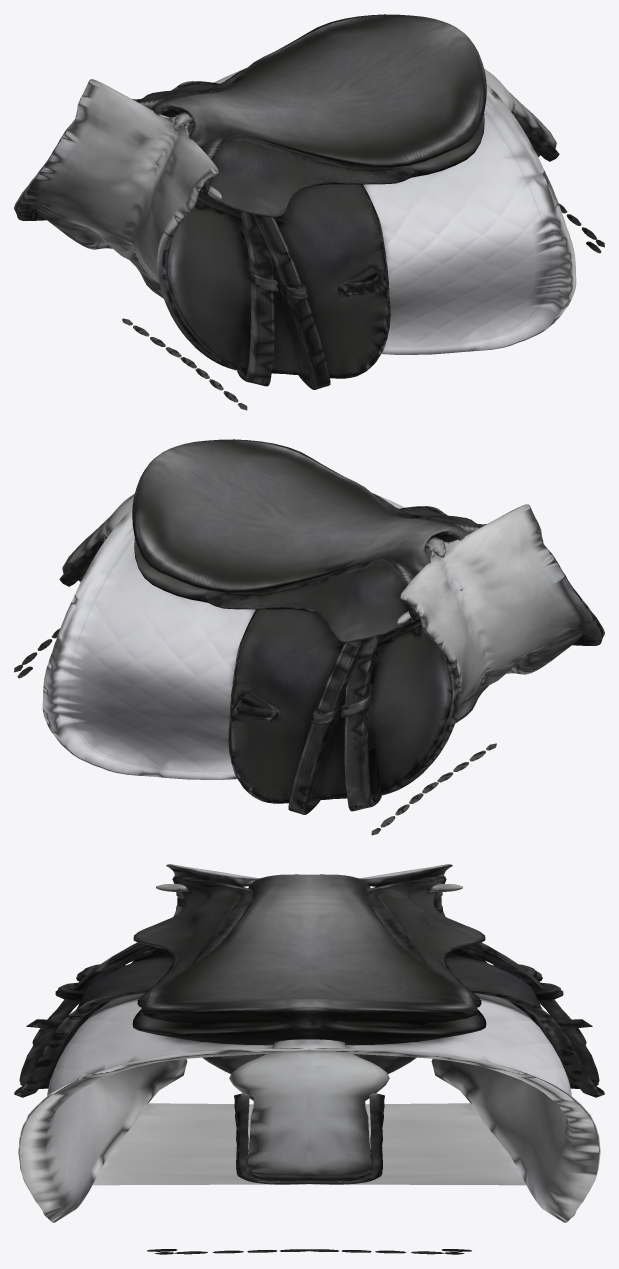
File: Silla_Arabe_Espejo.glb
The picture shows the model from 3 angles, top to bottom: view 1: azimuth 30°, elevation 25°; view 2: azimuth 150°, elevation 25°; view 3: azimuth 270°, elevation 25°; orthographic projection. The views are drawn at different scales.
Visible parts, largest first — view 1: tripo_86a61581_cf2c_408b_a89a_6ca6651d7480; view 2: tripo_86a61581_cf2c_408b_a89a_6ca6651d7480; view 3: tripo_86a61581_cf2c_408b_a89a_6ca6651d7480.
Boxes of the visible parts, left/top/right/bottom form: tripo_86a61581_cf2c_408b_a89a_6ca6651d7480: left=14, top=14, right=604, bottom=410; tripo_86a61581_cf2c_408b_a89a_6ca6651d7480: left=14, top=439, right=604, bottom=835; tripo_86a61581_cf2c_408b_a89a_6ca6651d7480: left=14, top=864, right=604, bottom=1254.
Bounding box in the file's own units: 0.6699 × 0.3834 × 0.6864.
1 material, 1 textured.
